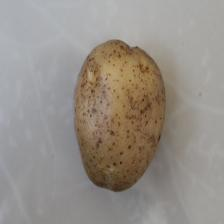Diseased-fungal potato: (72, 36, 167, 194)
